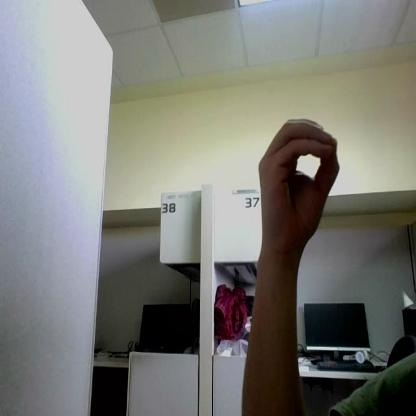O: (260, 118, 340, 243)
